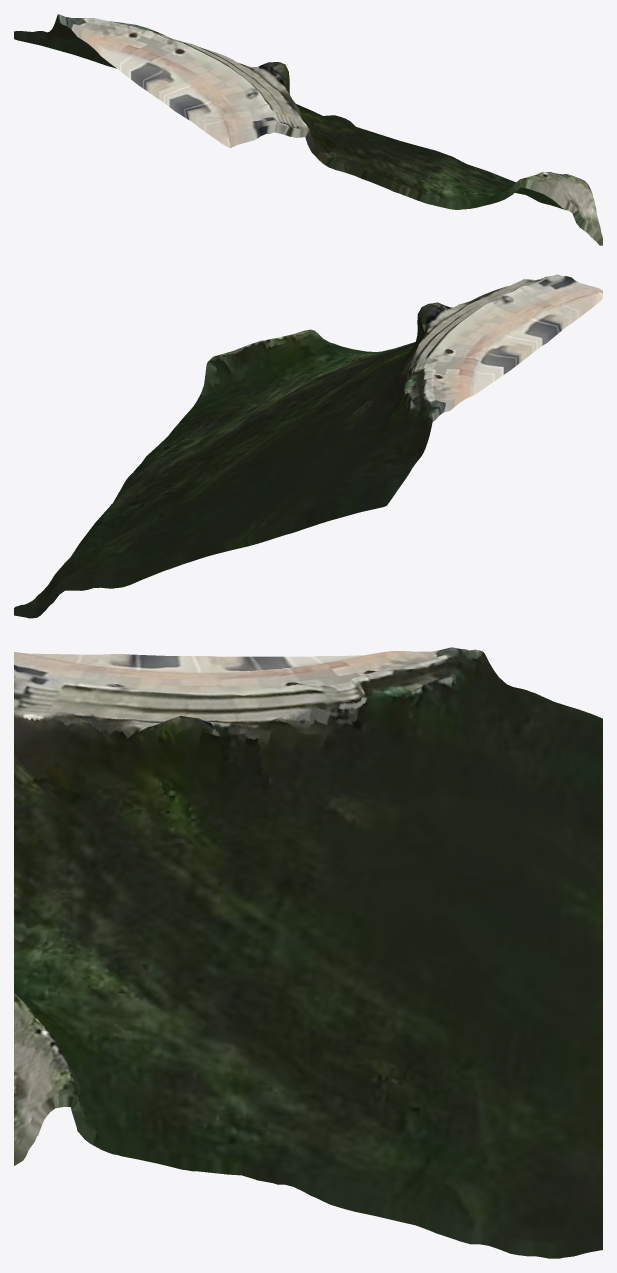
Rendered from z20-167754-405192-h0-yup-uvflip-v3-world.glb.
3 renders of one model, top to bottom at view 1: azimuth 30°, elevation 25°; view 2: azimuth 150°, elevation 25°; view 3: azimuth 270°, elevation 25°, orthographic. The views are drawn at different scales.
Bounding box in the file's own units: 30.16 × 20.84 × 30.32.
Materials: 1 (1 with a texture image).
